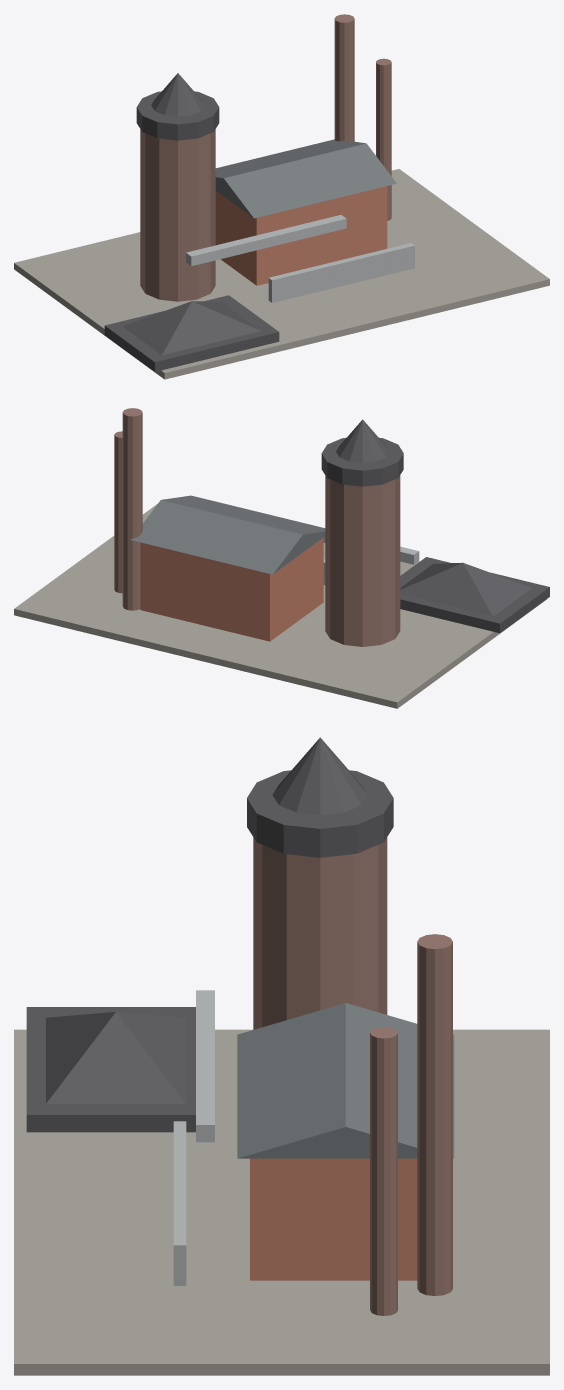
File: ind_siderurgia.glb
3 views of the same model, one above another, from view 1: azimuth 30°, elevation 25°; view 2: azimuth 150°, elevation 25°; view 3: azimuth 270°, elevation 25° (orthographic). The views are drawn at different scales.
Parts seen in each view (by area): view 1: ind_siderurgia; view 2: ind_siderurgia; view 3: ind_siderurgia.
Part boxes in pixels (bbox=[...]): ind_siderurgia: bbox=[14, 14, 549, 379]; ind_siderurgia: bbox=[14, 408, 549, 708]; ind_siderurgia: bbox=[14, 737, 549, 1375].
Size of the model in its own units: 1.26 by 0.675 by 0.84.
